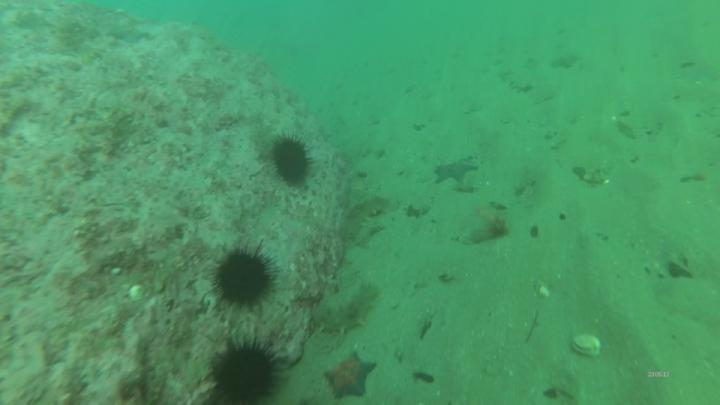echinus: (209, 335, 284, 405), (212, 245, 277, 311), (270, 135, 312, 187)
holothurian: (309, 279, 379, 338), (340, 191, 392, 244), (470, 213, 508, 245)
scallop: (571, 329, 603, 359)
starfish: (322, 350, 377, 400), (431, 152, 483, 188)
